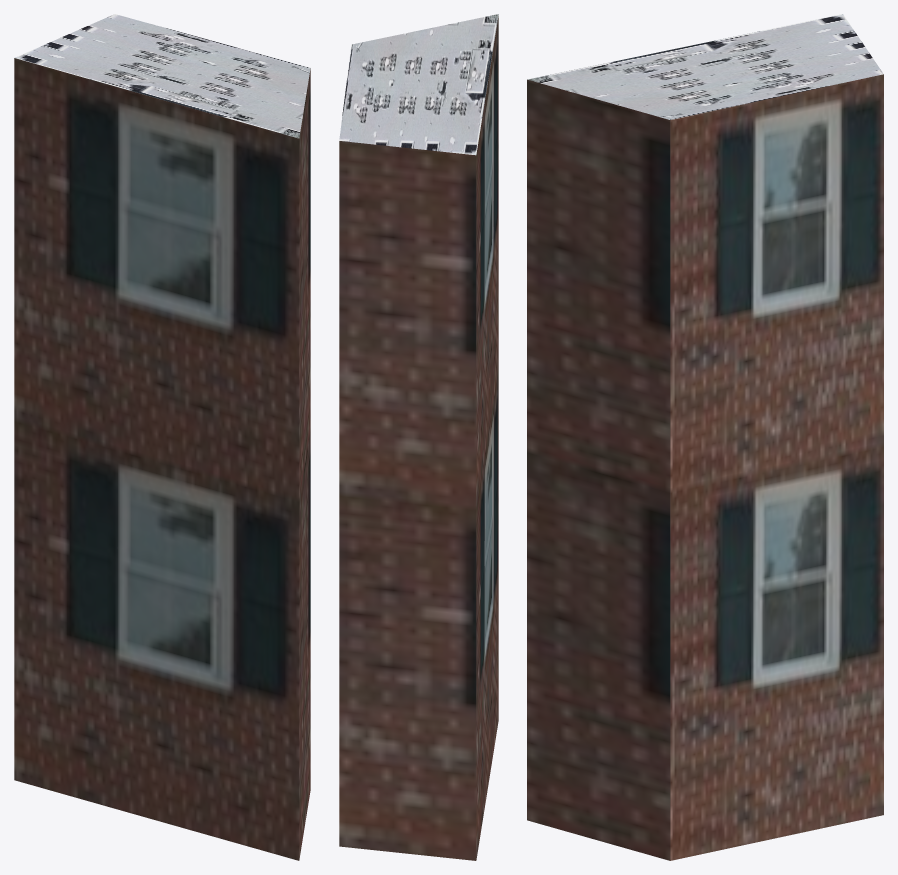
File: ResTex__4641.fbx
3 views of the same model, side by side, from view 1: azimuth 30°, elevation 25°; view 2: azimuth 150°, elevation 25°; view 3: azimuth 270°, elevation 25° (orthographic). The views are drawn at different scales.
Visible parts, largest first — view 1: CityEngineMaterial_14_m, CityEngineMaterial_8_m; view 2: CityEngineMaterial_14_m, CityEngineMaterial_8_m; view 3: CityEngineMaterial_14_m, CityEngineMaterial_8_m.
Boxes of the visible parts, bbox=[...] form: CityEngineMaterial_14_m: bbox=[14, 58, 310, 860]; CityEngineMaterial_8_m: bbox=[15, 14, 310, 138]; CityEngineMaterial_14_m: bbox=[339, 16, 498, 860]; CityEngineMaterial_8_m: bbox=[339, 14, 498, 155]; CityEngineMaterial_14_m: bbox=[527, 74, 883, 860]; CityEngineMaterial_8_m: bbox=[527, 14, 883, 119].
Bounding box in the file's own units: 1.84 × 6 × 2.62.
2 materials, 2 textured.
